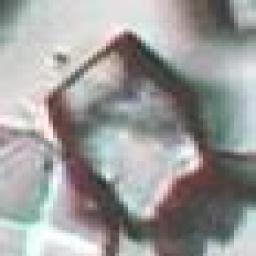crystals: (35, 28, 218, 244)
